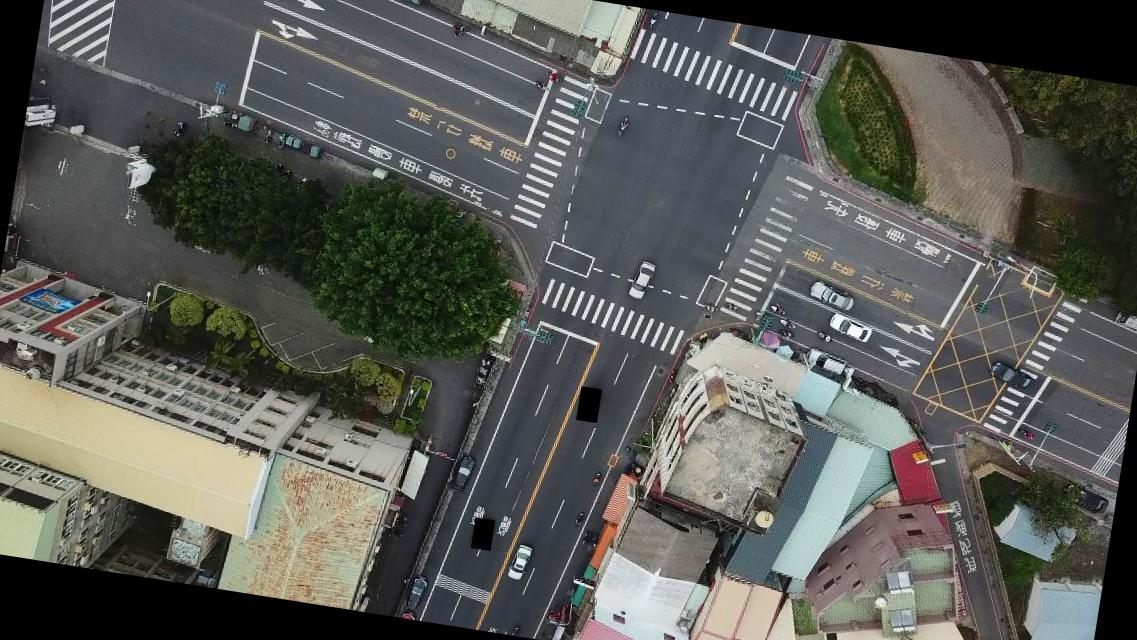vehicle: (826, 310, 874, 344), (807, 278, 856, 310), (987, 358, 1034, 391), (802, 346, 847, 376), (627, 258, 656, 302), (504, 542, 534, 584), (448, 452, 474, 496), (404, 573, 430, 613), (1111, 305, 1136, 336)
